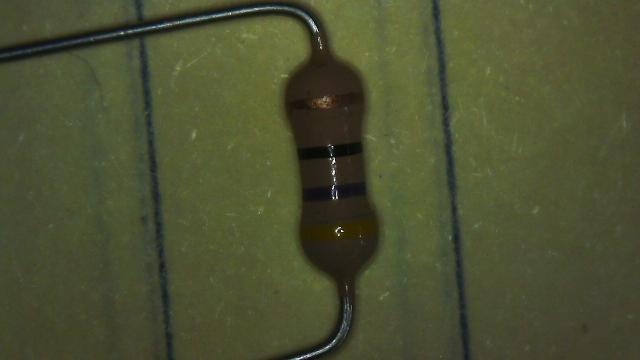black: (298, 143, 362, 158)
gold: (287, 92, 363, 110)
resistor: (264, 37, 405, 287)
violet: (302, 181, 368, 202)
yellow: (301, 216, 378, 240)
